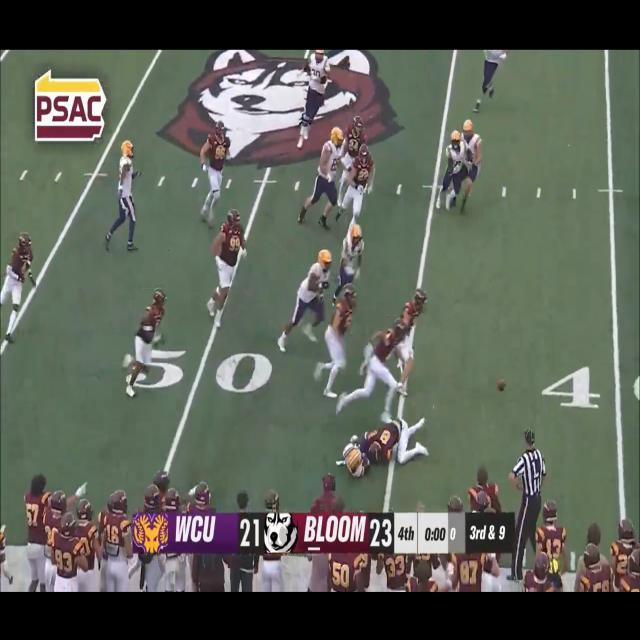football: (492, 373, 511, 399)
